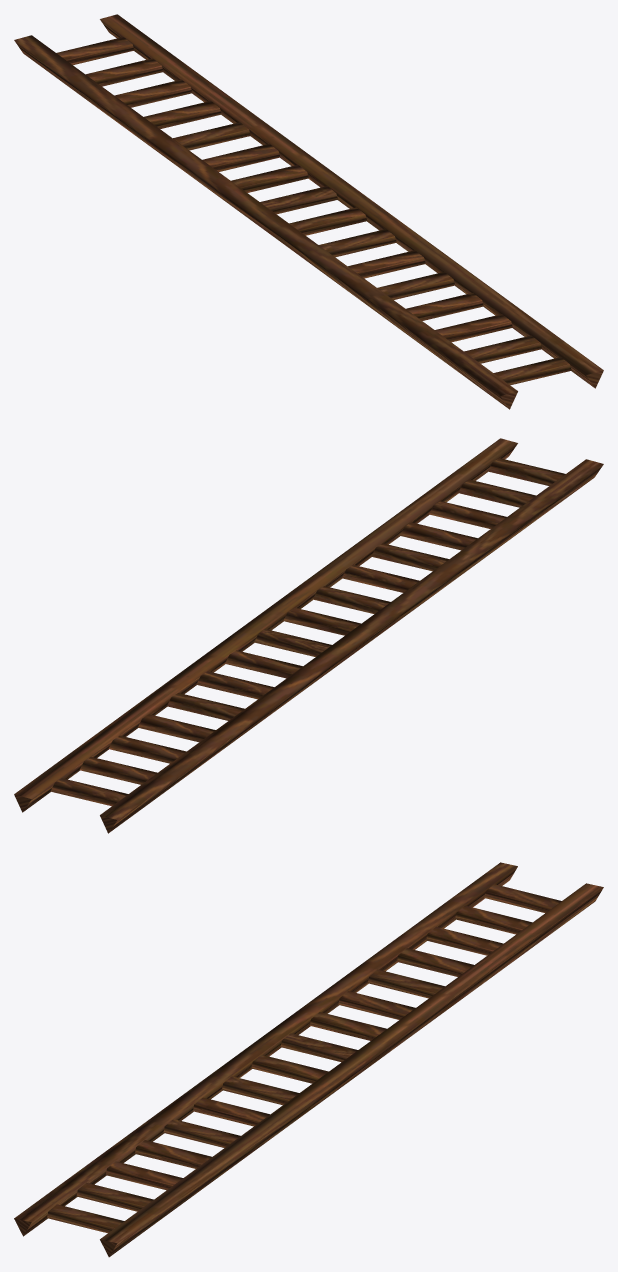
Rendered from INST_SWORDLIGHT_LADDERA.fbx.
The picture shows the model from 3 angles, top to bottom: view 1: azimuth 30°, elevation 25°; view 2: azimuth 150°, elevation 25°; view 3: azimuth 330°, elevation 25°; orthographic projection.
Visible parts, largest first — view 1: INST_SWORDLIGHT_LADDERA; view 2: INST_SWORDLIGHT_LADDERA; view 3: INST_SWORDLIGHT_LADDERA.
Part boxes in pixels (<box>): INST_SWORDLIGHT_LADDERA: <box>14,14,603,409</box>; INST_SWORDLIGHT_LADDERA: <box>14,438,603,833</box>; INST_SWORDLIGHT_LADDERA: <box>14,862,603,1257</box>.
Bounding box in the file's own units: 6138 × 927 × 49967.
1 material, 1 textured.
